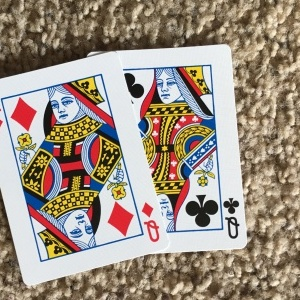card: (161, 48, 250, 252)
